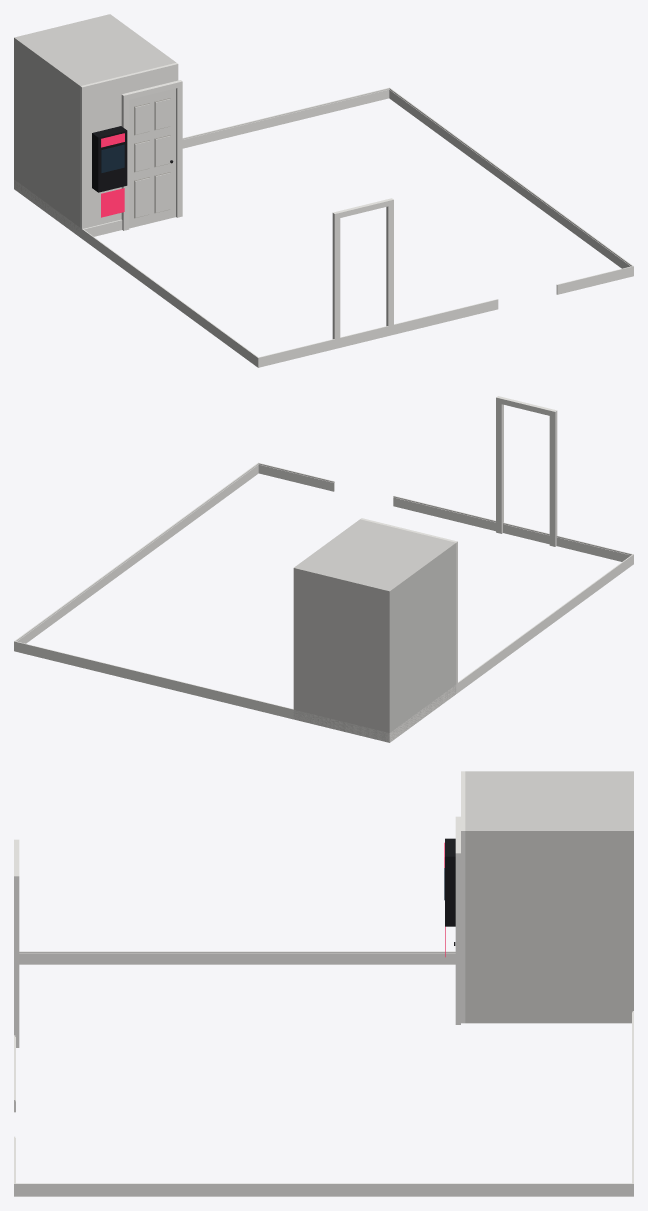
File: Arcade_Baseboards.glb
3 views of the same model, one above another, from view 1: azimuth 30°, elevation 25°; view 2: azimuth 150°, elevation 25°; view 3: azimuth 270°, elevation 25° (orthographic). The views are drawn at different scales.
Parts seen in each view (by area): view 1: root; view 2: root; view 3: root.
Boxes of the visible parts, left/top/right/bottom form: root: left=14, top=14, right=633, bottom=367; root: left=14, top=396, right=633, bottom=742; root: left=14, top=771, right=633, bottom=1196.
Size of the model in its own units: 6.31 by 2.43 by 7.1.
